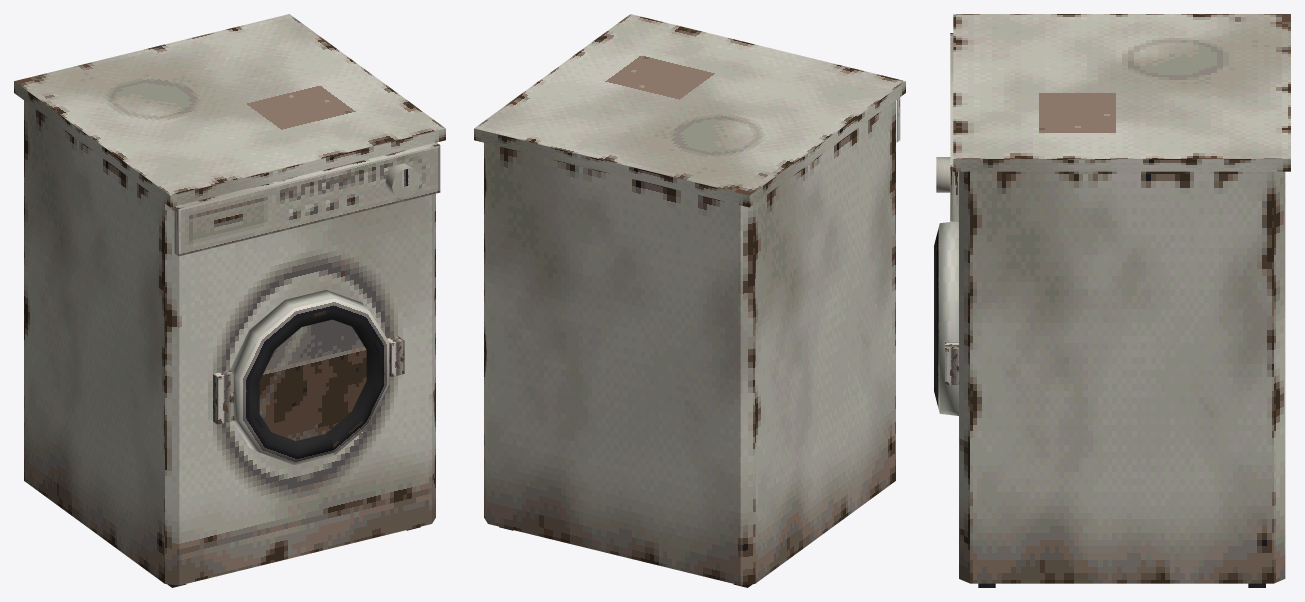
Rendered from washing_machine.glb.
The picture shows the model from 3 angles, left to right: view 1: azimuth 30°, elevation 25°; view 2: azimuth 150°, elevation 25°; view 3: azimuth 270°, elevation 25°; orthographic projection. The views are drawn at different scales.
Visible parts, largest first — view 1: washing_machine; view 2: washing_machine; view 3: washing_machine.
Boxes of the visible parts, x1=… form: washing_machine: x1=14, y1=14, x2=445, y2=587; washing_machine: x1=474, y1=14, x2=905, y2=587; washing_machine: x1=934, y1=14, x2=1290, y2=587.
Size of the model in its own units: 0.61 by 0.855 by 0.634.
1 material, 1 textured.
